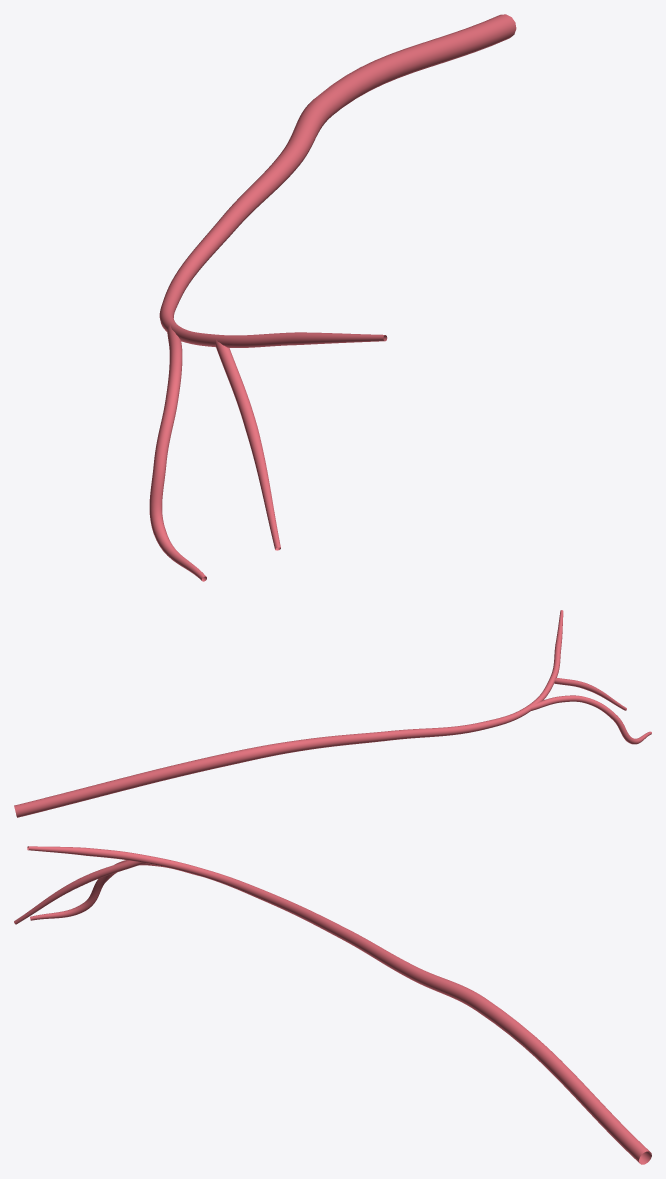
3 views of the same model, one above another, from view 1: azimuth 30°, elevation 25°; view 2: azimuth 150°, elevation 25°; view 3: azimuth 270°, elevation 25° (orthographic). The views are drawn at different scales.
Parts seen in each view (by area): view 1: ZA_67c4671f82315ee4; view 2: ZA_67c4671f82315ee4; view 3: ZA_67c4671f82315ee4.
Part boxes in pixels (<box>): ZA_67c4671f82315ee4: <box>149,14,516,581</box>; ZA_67c4671f82315ee4: <box>14,610,651,817</box>; ZA_67c4671f82315ee4: <box>14,846,651,1164</box>.
Size of the model in its own units: 0.029 by 0.00717 by 0.0316.
